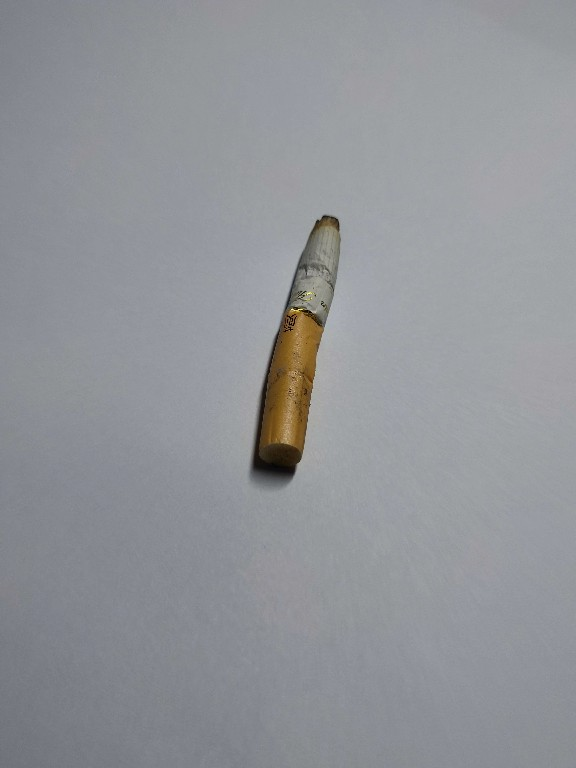cigarette: (250, 211, 344, 470)
